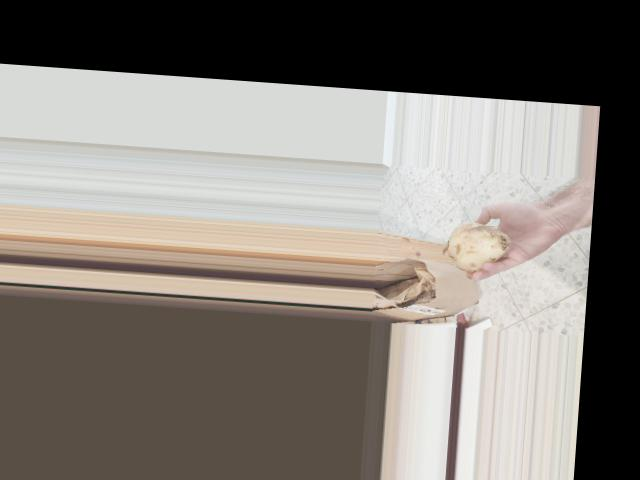onion: (441, 216, 514, 277)
